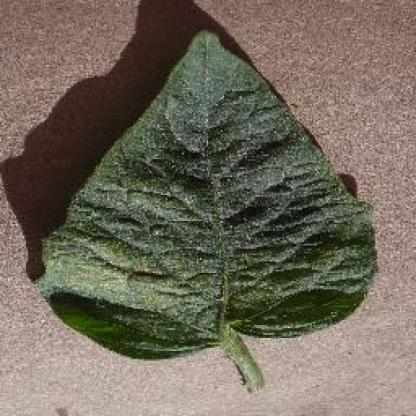Tomato_Spider_Mites: (37, 30, 374, 359)
